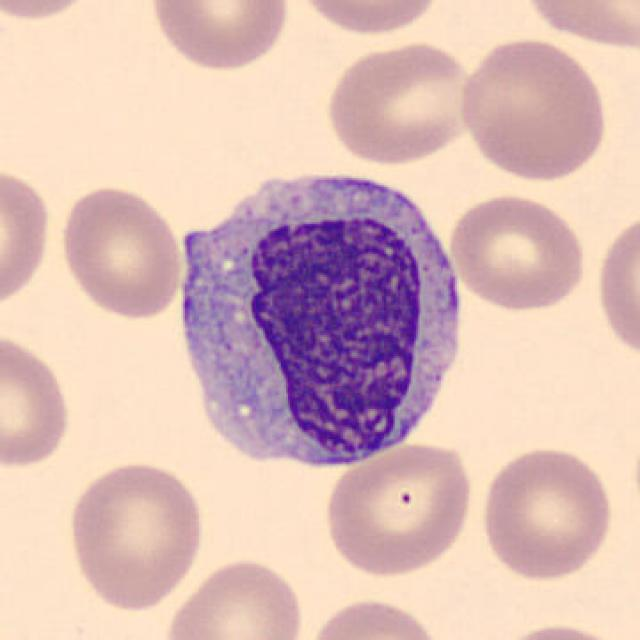Monocyte: (162, 153, 473, 485)
RBC: (455, 34, 613, 184), (62, 455, 208, 613), (320, 439, 476, 578), (322, 37, 478, 168), (476, 441, 617, 584), (55, 181, 187, 321), (444, 188, 590, 314), (159, 553, 309, 640), (144, 0, 293, 74), (0, 328, 76, 471), (0, 160, 55, 316), (592, 205, 638, 366), (302, 594, 446, 640), (290, 0, 448, 39), (518, 0, 638, 51), (491, 619, 629, 640), (0, 0, 105, 23)
